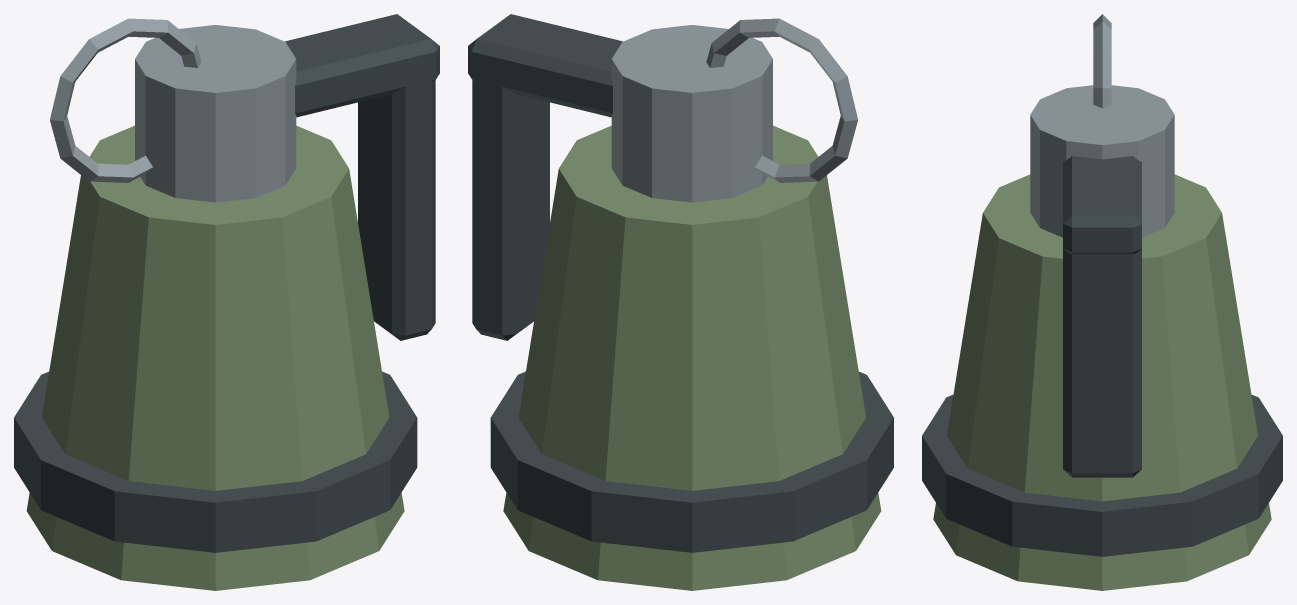
File: grenade.glb
3 views of the same model, side by side, from view 1: azimuth 30°, elevation 25°; view 2: azimuth 150°, elevation 25°; view 3: azimuth 270°, elevation 25° (orthographic). The views are drawn at different scales.
Parts seen in each view (by area): view 1: Grenade body, Grenade lower band, Fuse neck, Lever side, Safety lever, Pull ring; view 2: Grenade body, Grenade lower band, Fuse neck, Lever side, Safety lever, Pull ring; view 3: Grenade body, Grenade lower band, Lever side, Fuse neck, Safety lever, Pull ring.
Part boxes in pixels (bbox=[...]): Grenade body: bbox=[26, 125, 404, 590]; Grenade lower band: bbox=[14, 371, 417, 552]; Fuse neck: bbox=[135, 25, 296, 202]; Lever side: bbox=[358, 73, 435, 340]; Safety lever: bbox=[285, 14, 439, 117]; Pull ring: bbox=[50, 18, 201, 182]; Grenade body: bbox=[503, 125, 881, 590]; Grenade lower band: bbox=[490, 371, 893, 552]; Fuse neck: bbox=[611, 25, 772, 202]; Lever side: bbox=[472, 73, 549, 340]; Safety lever: bbox=[468, 14, 622, 117]; Pull ring: bbox=[706, 18, 857, 182]; Grenade body: bbox=[933, 174, 1271, 590]; Grenade lower band: bbox=[922, 394, 1282, 556]; Lever side: bbox=[1063, 249, 1141, 477]; Fuse neck: bbox=[1030, 85, 1174, 237]; Safety lever: bbox=[1063, 156, 1141, 254]; Pull ring: bbox=[1093, 14, 1111, 108].
Bounding box in the file's own units: 0.175 × 0.225 × 0.16.
